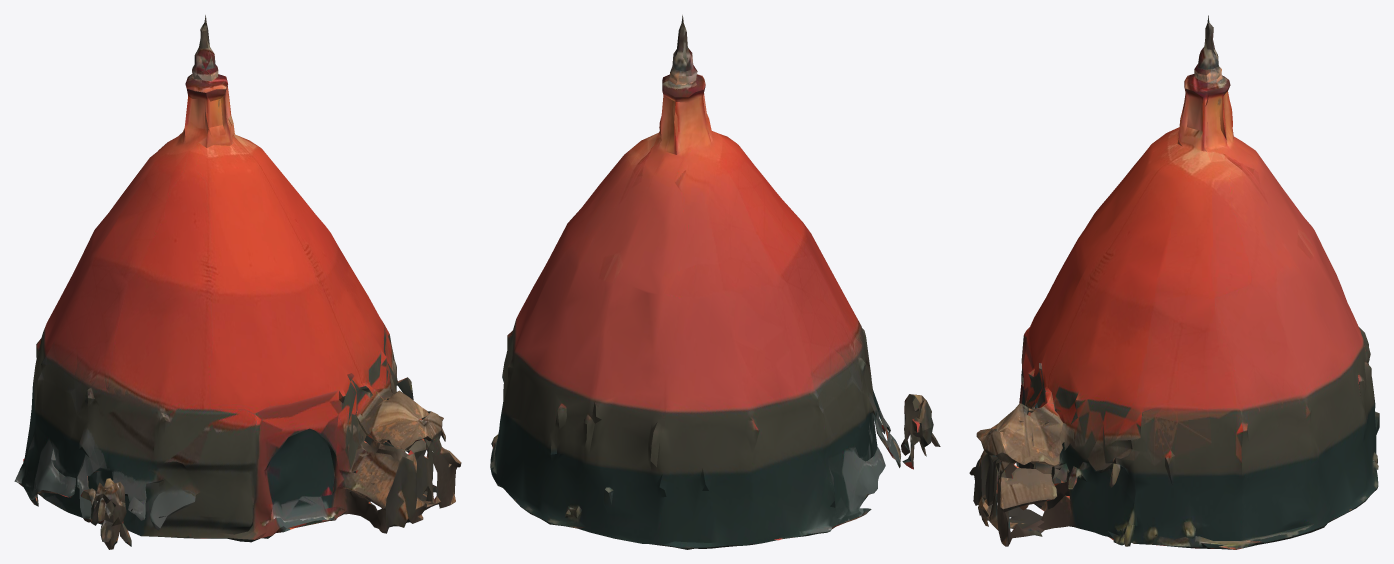
The model's file is etiopia_alianza.glb.
The picture shows the model from 3 angles, left to right: view 1: azimuth 30°, elevation 25°; view 2: azimuth 150°, elevation 25°; view 3: azimuth 270°, elevation 25°; orthographic projection. The views are drawn at different scales.
Visible parts, largest first — view 1: geometry_0; view 2: geometry_0; view 3: geometry_0.
Part boxes in pixels (x1,y1,x2,y2): geometry_0: [14, 15, 461, 549]; geometry_0: [490, 15, 940, 549]; geometry_0: [969, 15, 1379, 549].
Bounding box in the file's own units: 3.4 × 4.2 × 3.4.
Materials: 1 (1 with a texture image).
